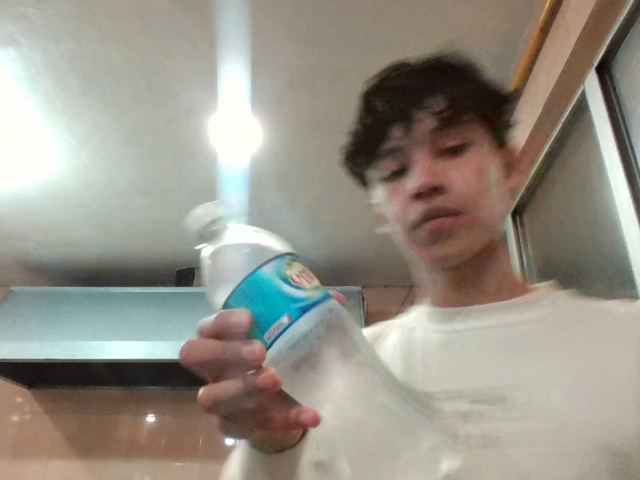botella: (69, 171, 523, 469)
